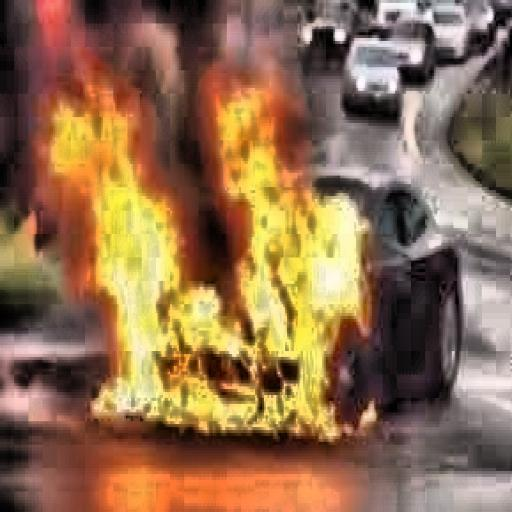fire: (34, 47, 242, 456), (198, 58, 372, 418)
